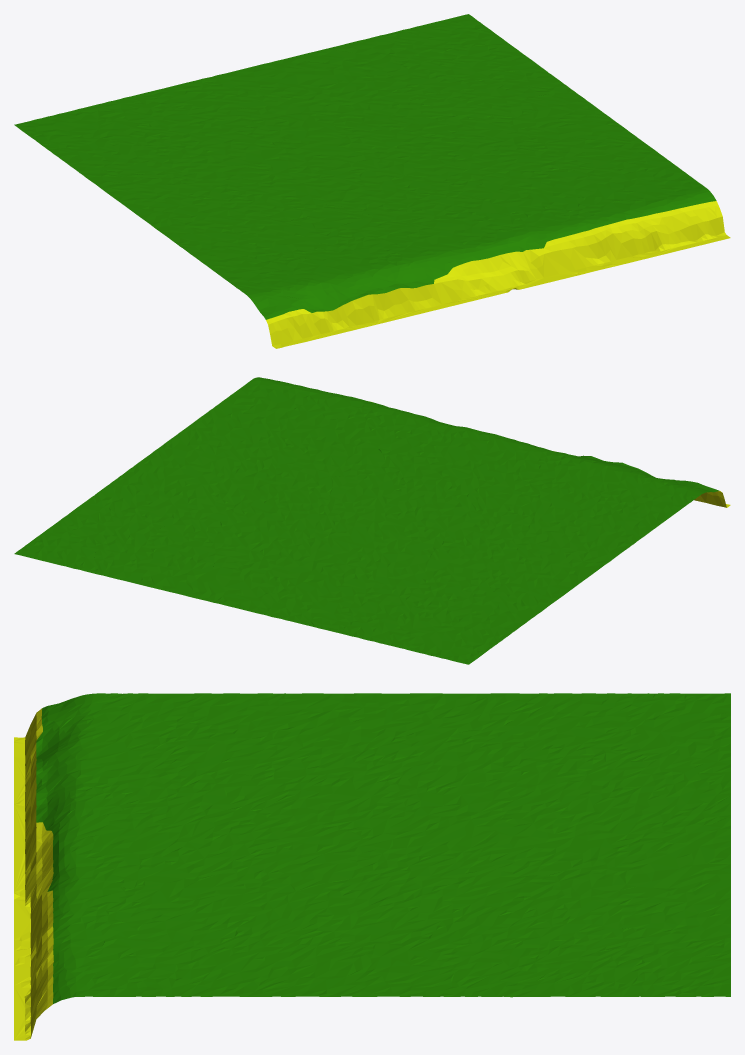
3 renders of one model, top to bottom at view 1: azimuth 30°, elevation 25°; view 2: azimuth 150°, elevation 25°; view 3: azimuth 270°, elevation 25°, orthographic. The views are drawn at different scales.
Visible parts, largest first — view 1: TerrainVeryHigh.005; view 2: TerrainVeryHigh.005; view 3: TerrainVeryHigh.005.
Boxes of the visible parts, bbox=[...] form: TerrainVeryHigh.005: bbox=[14, 14, 730, 348]; TerrainVeryHigh.005: bbox=[14, 377, 730, 664]; TerrainVeryHigh.005: bbox=[14, 693, 730, 1040].
Bounding box in the file's own units: 1250 × 1249 × 86.28.
